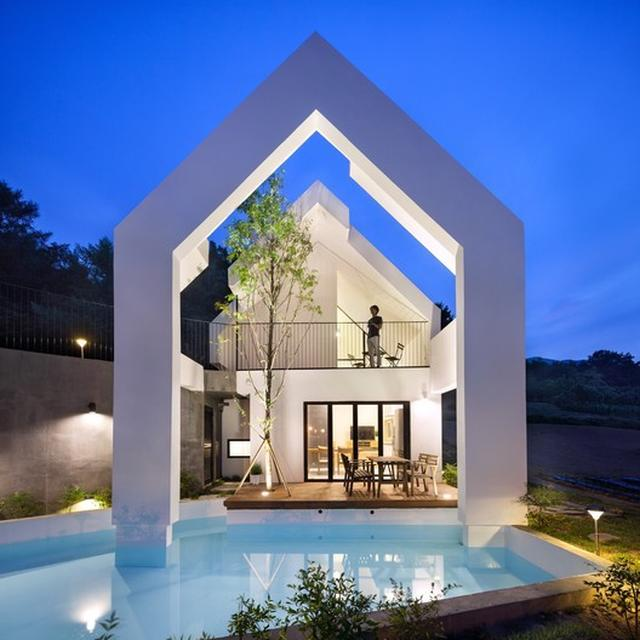building: (112, 29, 534, 528)
